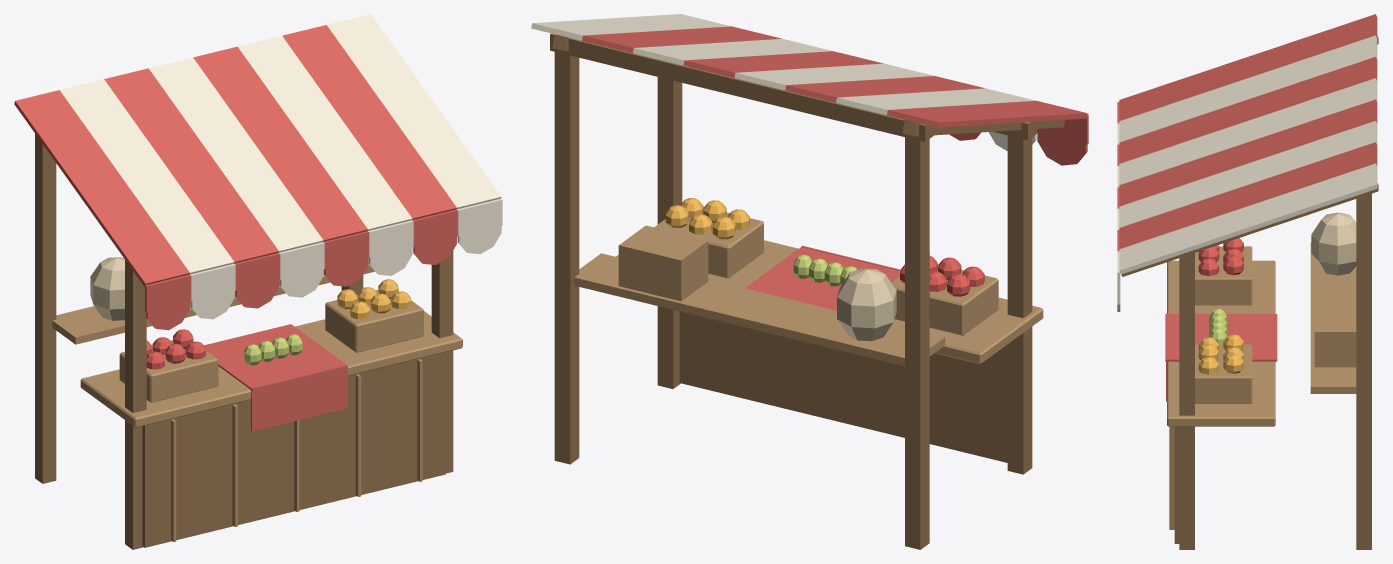
File: market_stall_red.glb
The picture shows the model from 3 angles, left to right: view 1: azimuth 30°, elevation 25°; view 2: azimuth 150°, elevation 25°; view 3: azimuth 270°, elevation 25°; orthographic projection. The views are drawn at different scales.
Parts seen in each view (by area): view 1: market_stall_red; view 2: market_stall_red; view 3: market_stall_red.
Part boxes in pixels (bbox=[...]): market_stall_red: bbox=[14, 14, 502, 549]; market_stall_red: bbox=[531, 14, 1088, 549]; market_stall_red: bbox=[1117, 14, 1378, 549].
Size of the model in its own units: 2.6 by 2.65 by 1.68.
